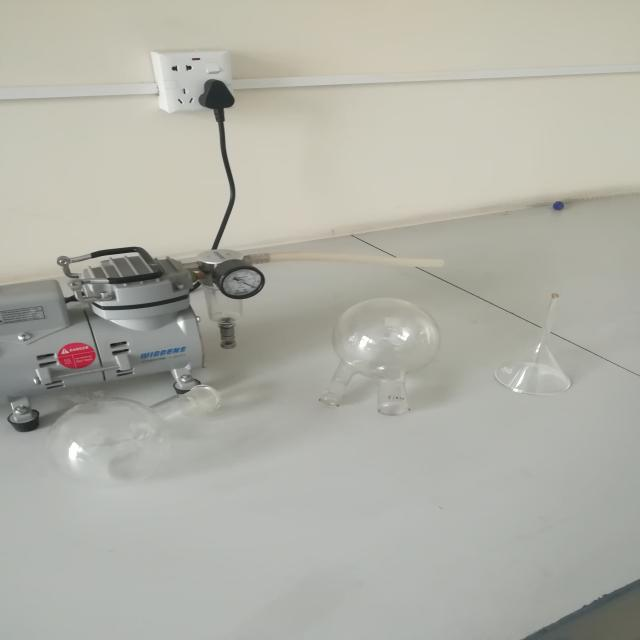Funnel: (480, 287, 600, 426)
Round_Bottom_Flask_Borosilicate_Glass_1_Neck: (41, 372, 253, 498)
Round_Bottom_Flask_Borosilicate_Glass_2_Neck: (308, 266, 445, 446)
